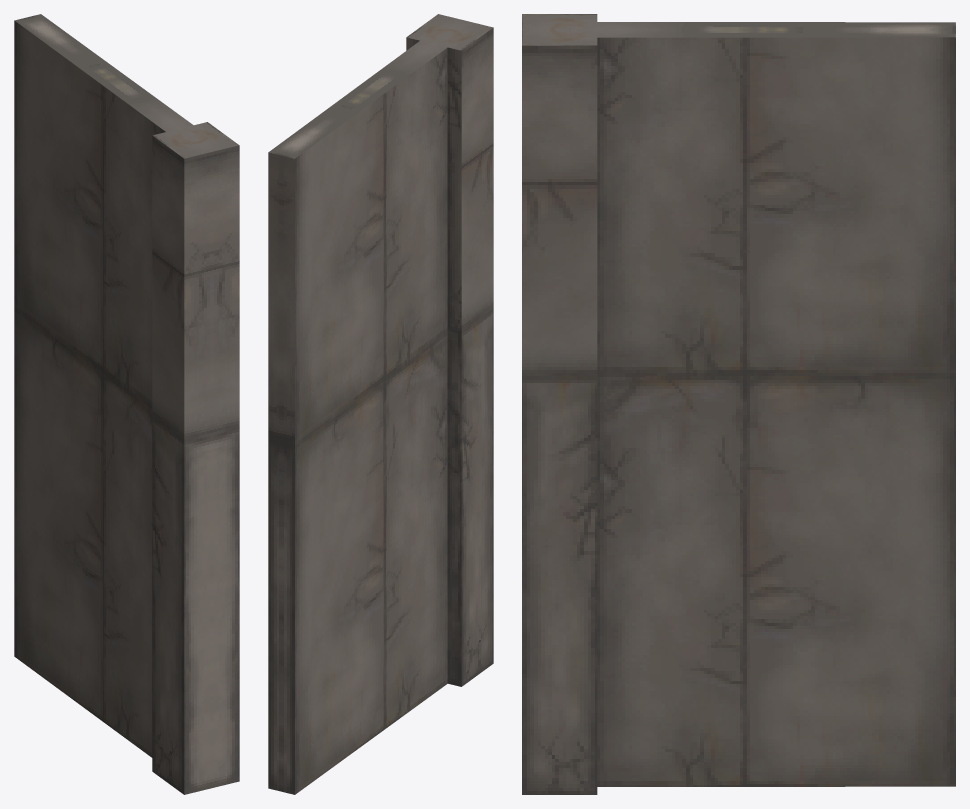
File: ConcreteWall.glb
3 renders of one model, left to right at view 1: azimuth 30°, elevation 25°; view 2: azimuth 150°, elevation 25°; view 3: azimuth 270°, elevation 25°, orthographic. The views are drawn at different scales.
Visible parts, largest first — view 1: Cube.143; view 2: Cube.143; view 3: Cube.143.
Part boxes in pixels (left/top/right/bottom): Cube.143: left=14, top=14, right=239, bottom=794; Cube.143: left=268, top=14, right=493, bottom=794; Cube.143: left=522, top=14, right=955, bottom=794.
Size of the model in its own units: 0.81 by 8.91 by 4.68.
Materials: 1 (1 with a texture image).
